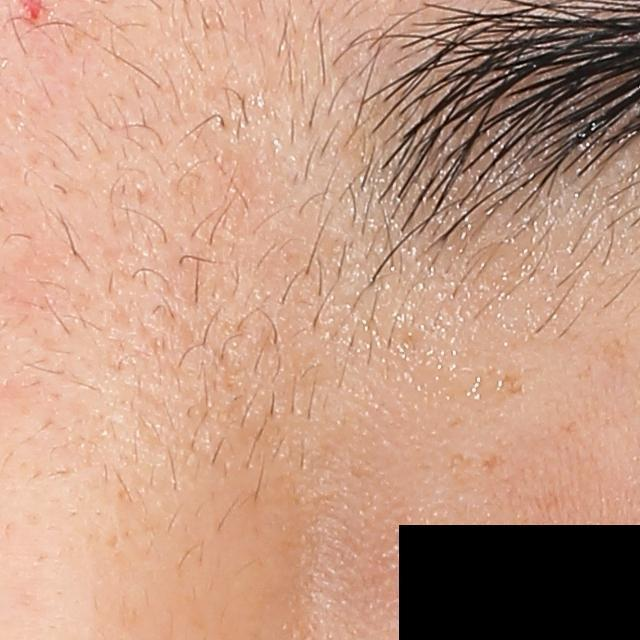melasma: (496, 369, 529, 399), (481, 450, 505, 471)
